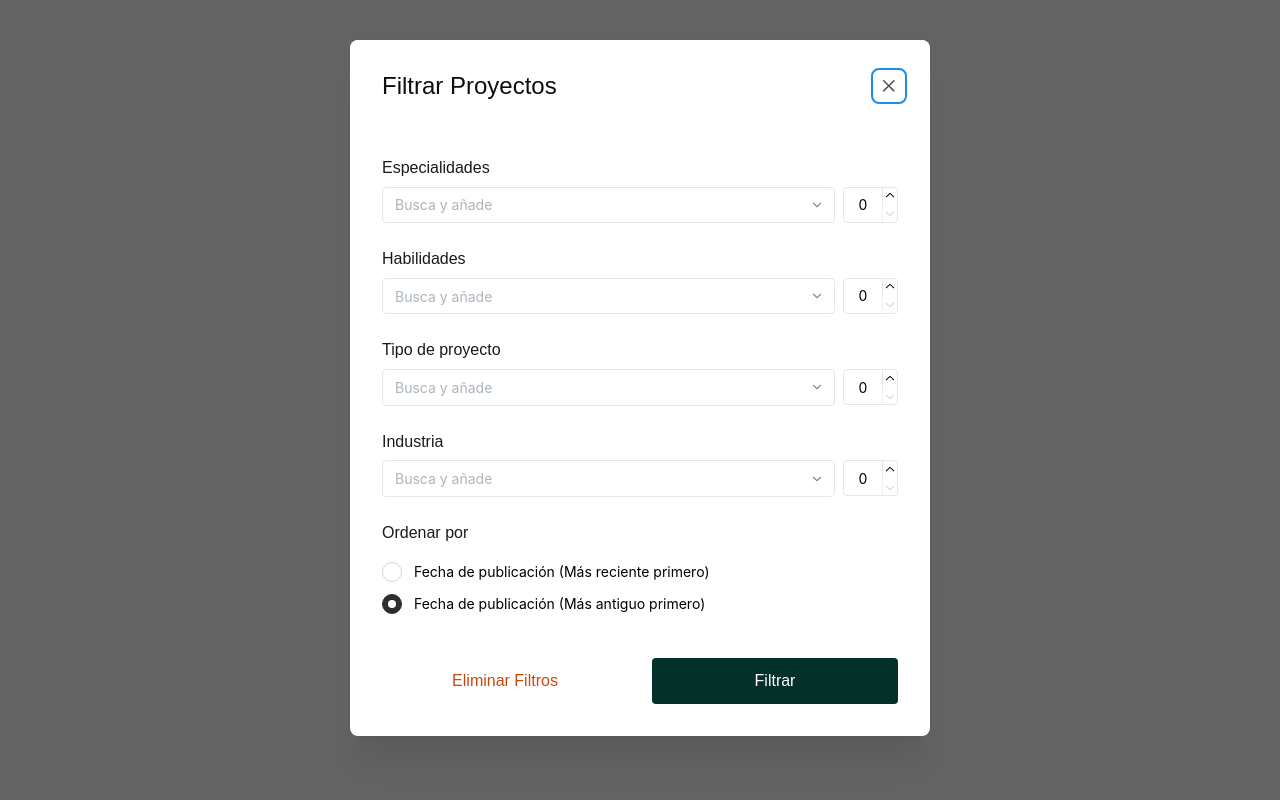
Scenario: FiltersModal Component › resets radio group when clearing filters
The width and height of the screenshot is (1280, 800).
Click the button "Eliminar Filtros": click(505, 680) [382,658,628,704]
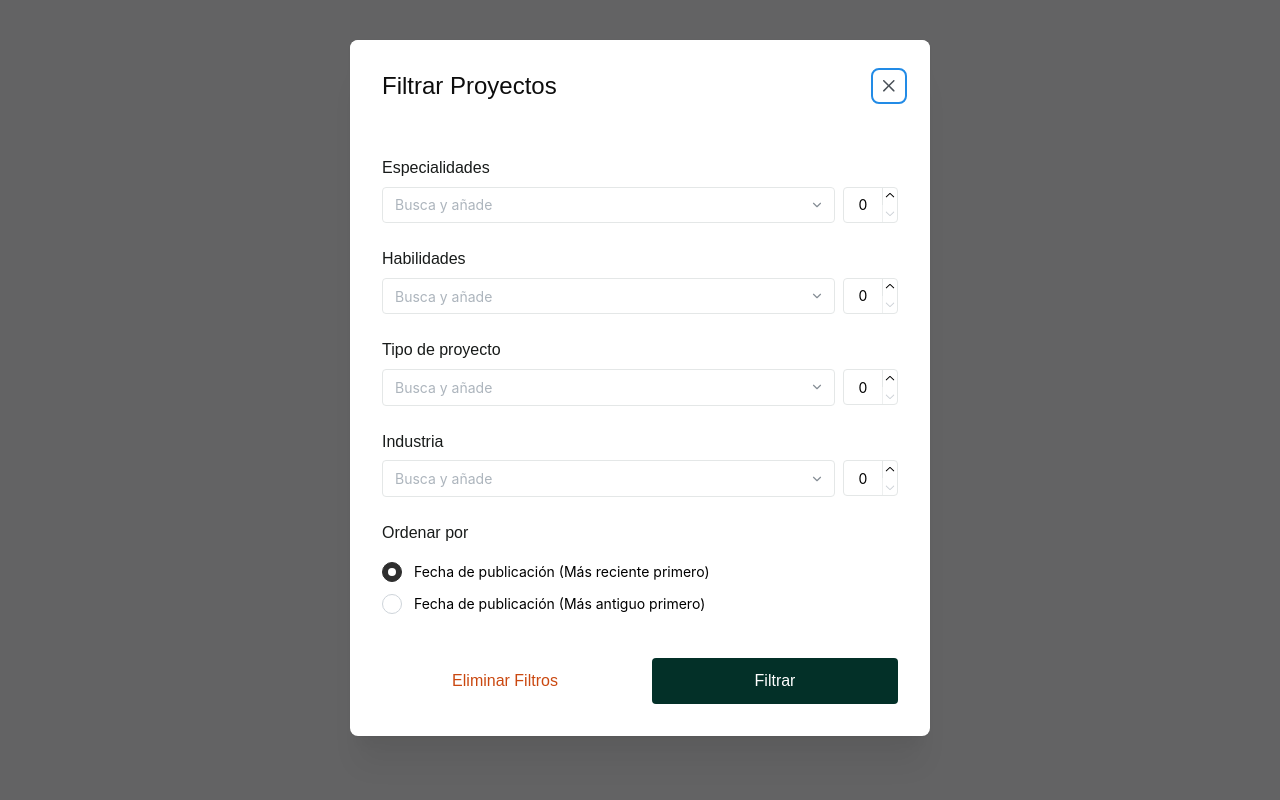
Expected: the radio button labelled "Fecha de publicación (Más reciente primero)" is checked, [382,562,402,582]
